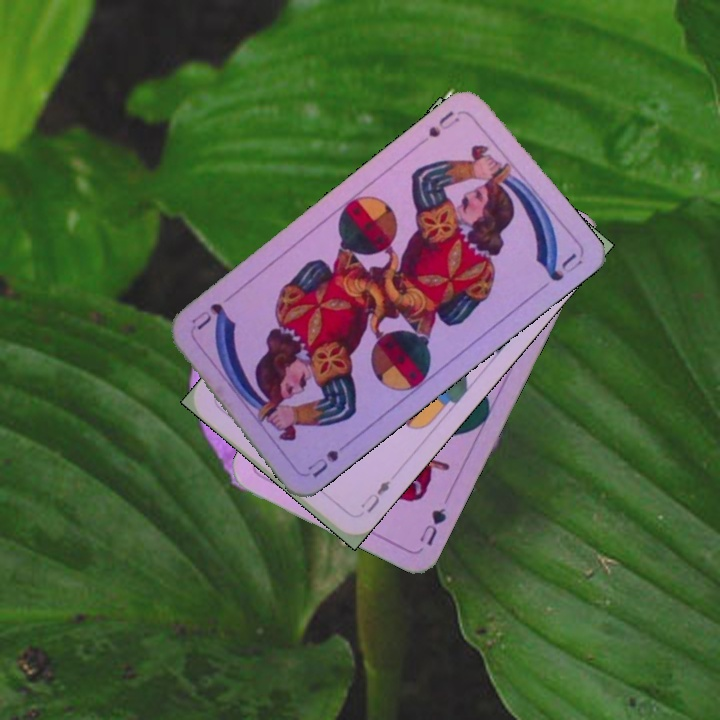EU: (356, 476, 393, 515)
GU: (415, 503, 449, 549)
SU: (303, 435, 354, 480), (414, 107, 462, 149)
